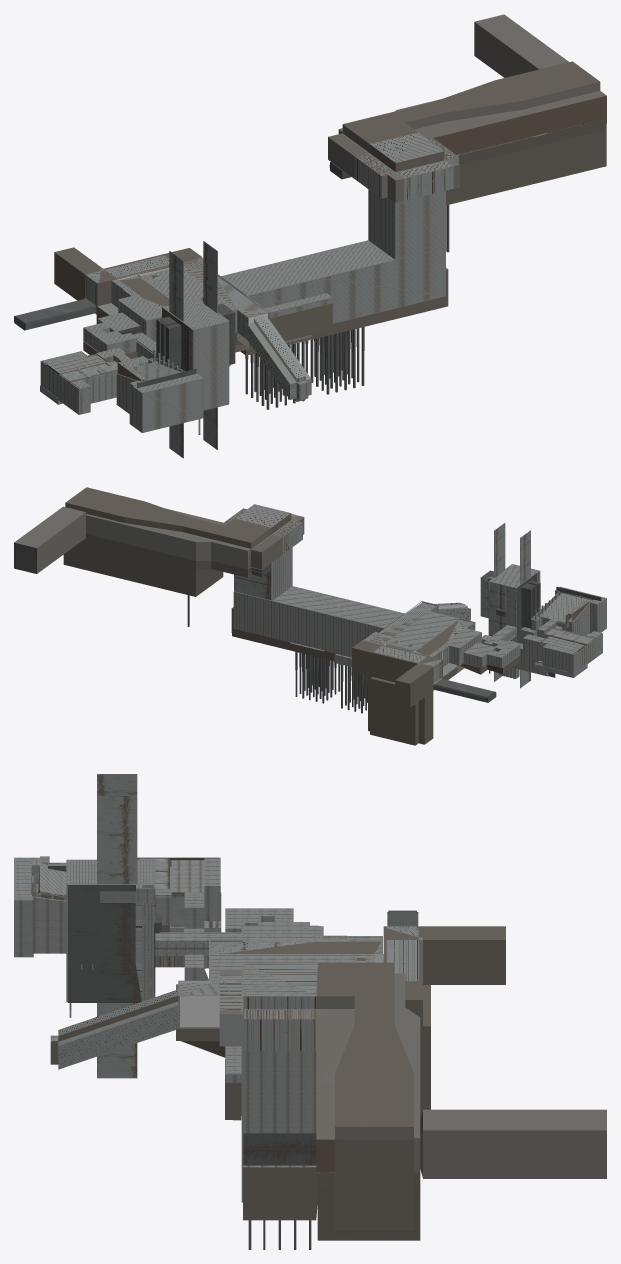
File: Cleaned Up Map Mesh.fbx
3 views of the same model, one above another, from view 1: azimuth 30°, elevation 25°; view 2: azimuth 150°, elevation 25°; view 3: azimuth 270°, elevation 25° (orthographic). The views are drawn at different scales.
Parts seen in each view (by area): view 1: Base, Slide Shield Right, Slide Shield Left, World 2 Missile checkpoint bridge; view 2: Base, World 2 Missile checkpoint bridge, Slide Shield Left, Slide Shield Right; view 3: Base, Slide Shield Right, Slide Shield Left.
Boxes of the visible parts, box(x1,y1,x2,y2) form: Base: box(40, 14, 606, 432); Slide Shield Right: box(203, 241, 217, 450); Slide Shield Left: box(169, 251, 183, 458); World 2 Missile checkpoint bridge: box(14, 298, 96, 330); Base: box(14, 487, 606, 745); World 2 Missile checkpoint bridge: box(433, 679, 496, 702); Slide Shield Left: box(520, 530, 530, 688); Slide Shield Right: box(494, 523, 505, 681); Base: box(14, 856, 606, 1240); Slide Shield Right: box(97, 795, 137, 1078); Slide Shield Left: box(97, 774, 137, 795).
Bounding box in the file's own units: 75671 × 26828 × 45585.
